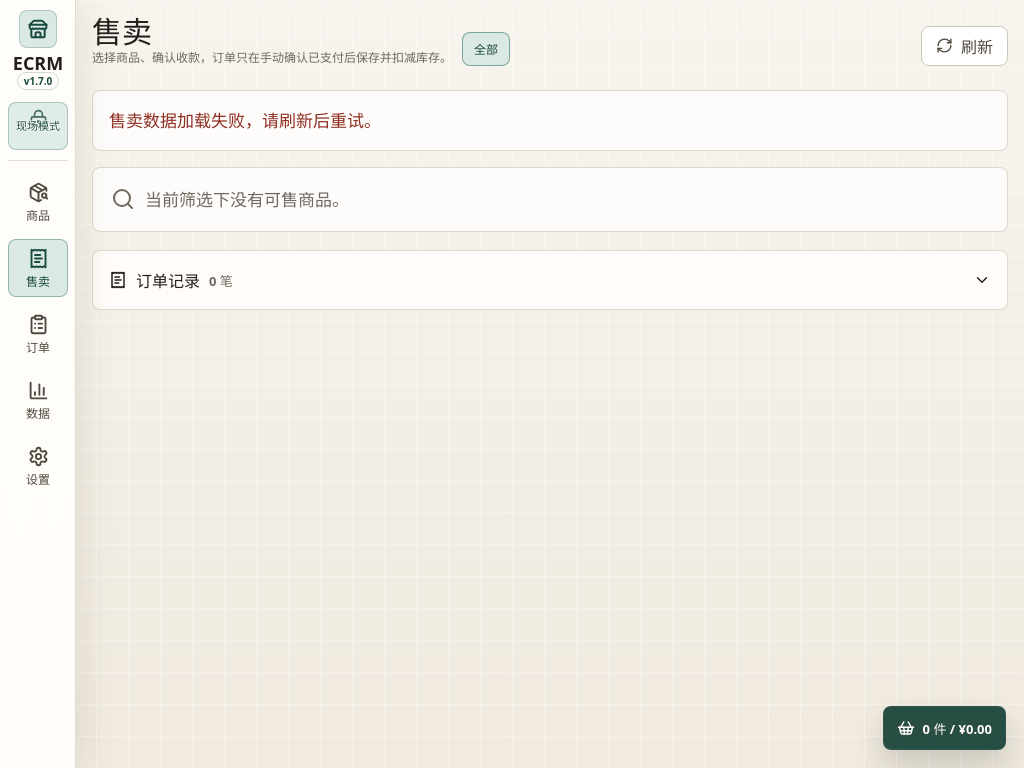
Scenario: locks products navigation when field mode is enabled
Check: the heading "售卖" is shown, box [92, 16, 152, 48]
Click the link "商品" at (38, 203), box [26, 182, 50, 224]
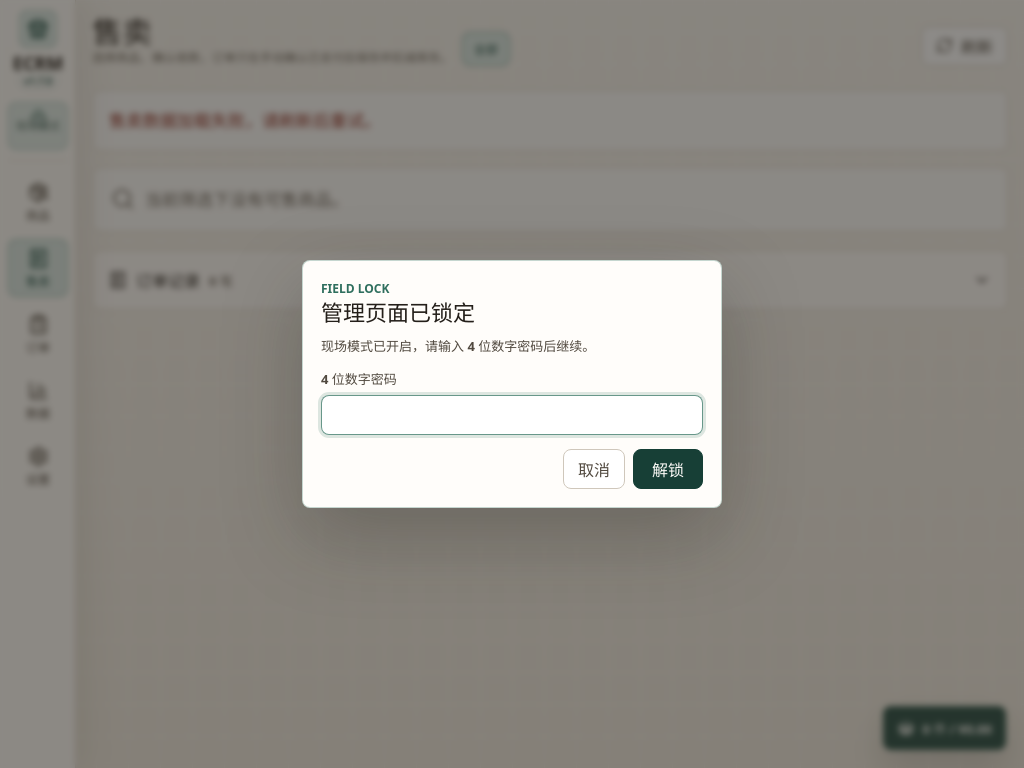
Check: the dialog "管理页面已锁定" is shown, box [302, 260, 722, 508]
